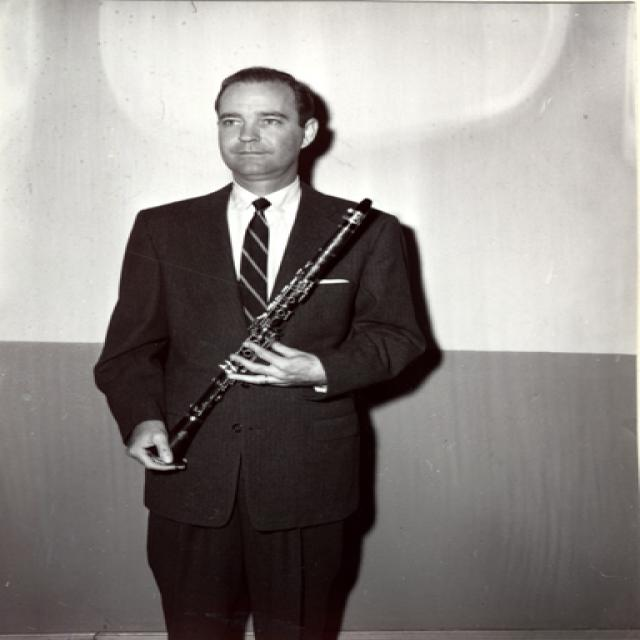clarinet: (143, 193, 371, 469)
